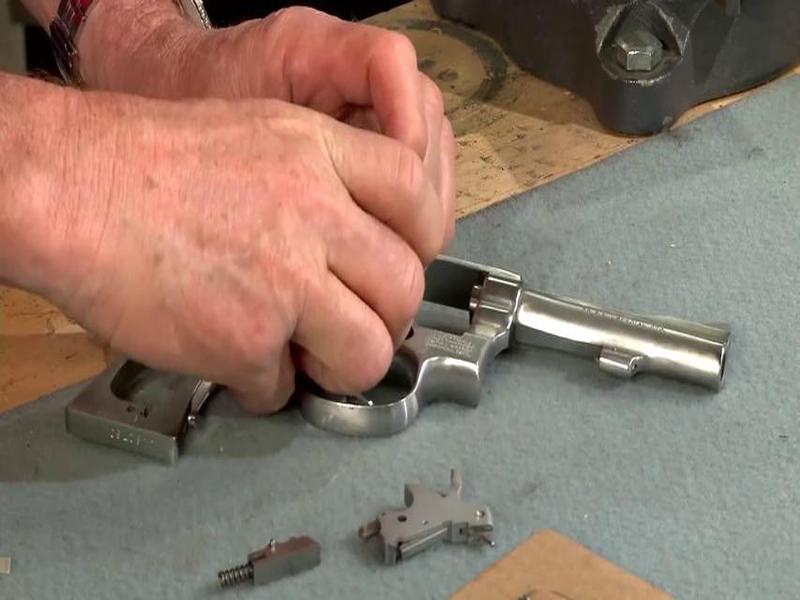Revolver: (87, 171, 756, 512)
